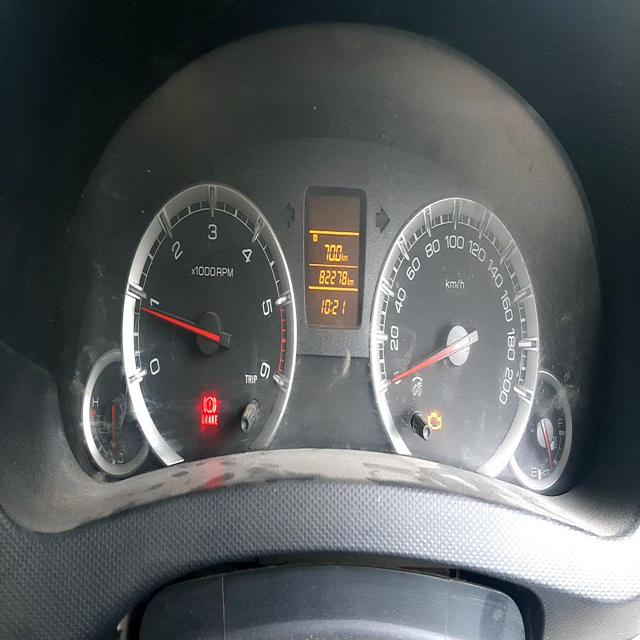odometer: (316, 266, 347, 289)
